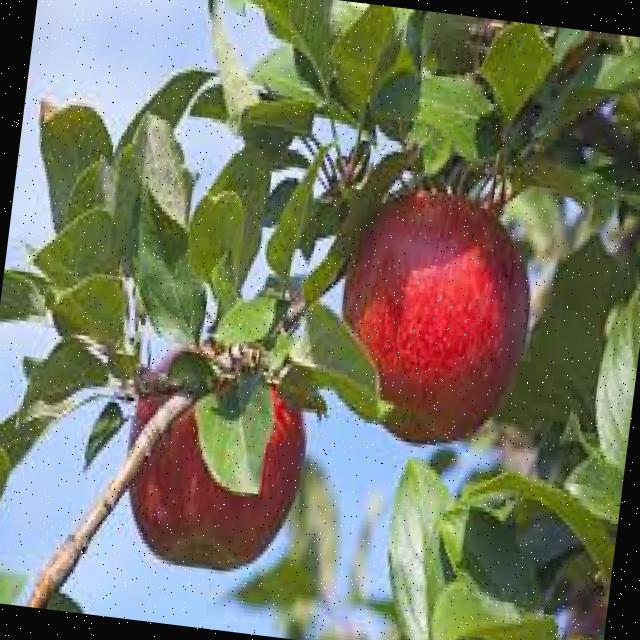apple: (326, 180, 544, 457)
